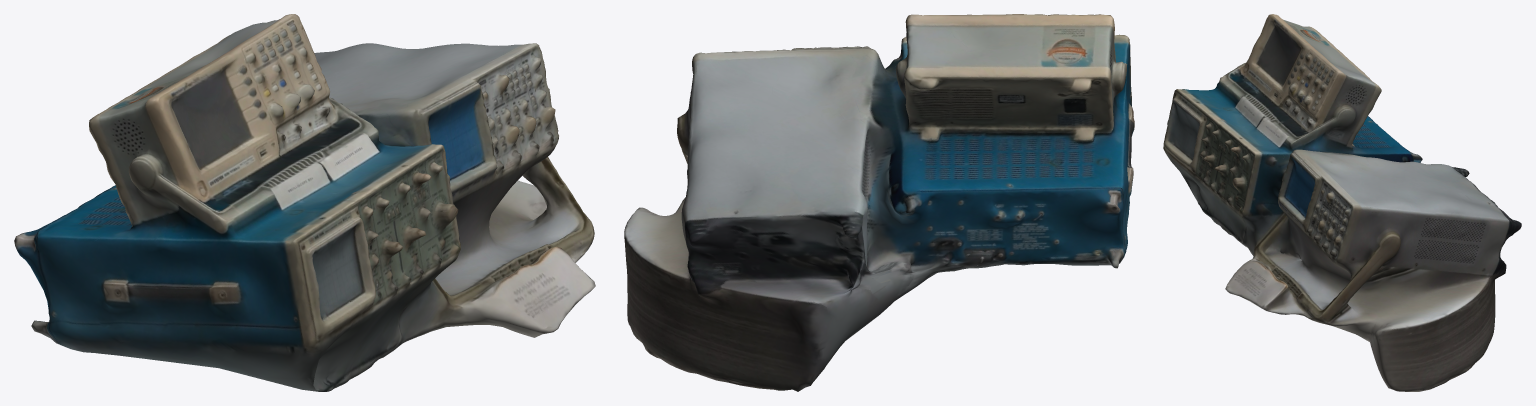
Rendered from Oscilloscope.glb.
The picture shows the model from 3 angles, left to right: view 1: azimuth 30°, elevation 25°; view 2: azimuth 150°, elevation 25°; view 3: azimuth 270°, elevation 25°; orthographic projection. The views are drawn at different scales.
Visible parts, largest first — view 1: 3DModel; view 2: 3DModel; view 3: 3DModel.
Boxes of the visible parts, x1=… form: 3DModel: x1=14, y1=14, x2=595, y2=391; 3DModel: x1=624, y1=14, x2=1134, y2=391; 3DModel: x1=1163, y1=14, x2=1521, y2=391.
Size of the model in its own units: 0.6611 by 0.4509 by 0.6048.
1 material, 1 textured.
